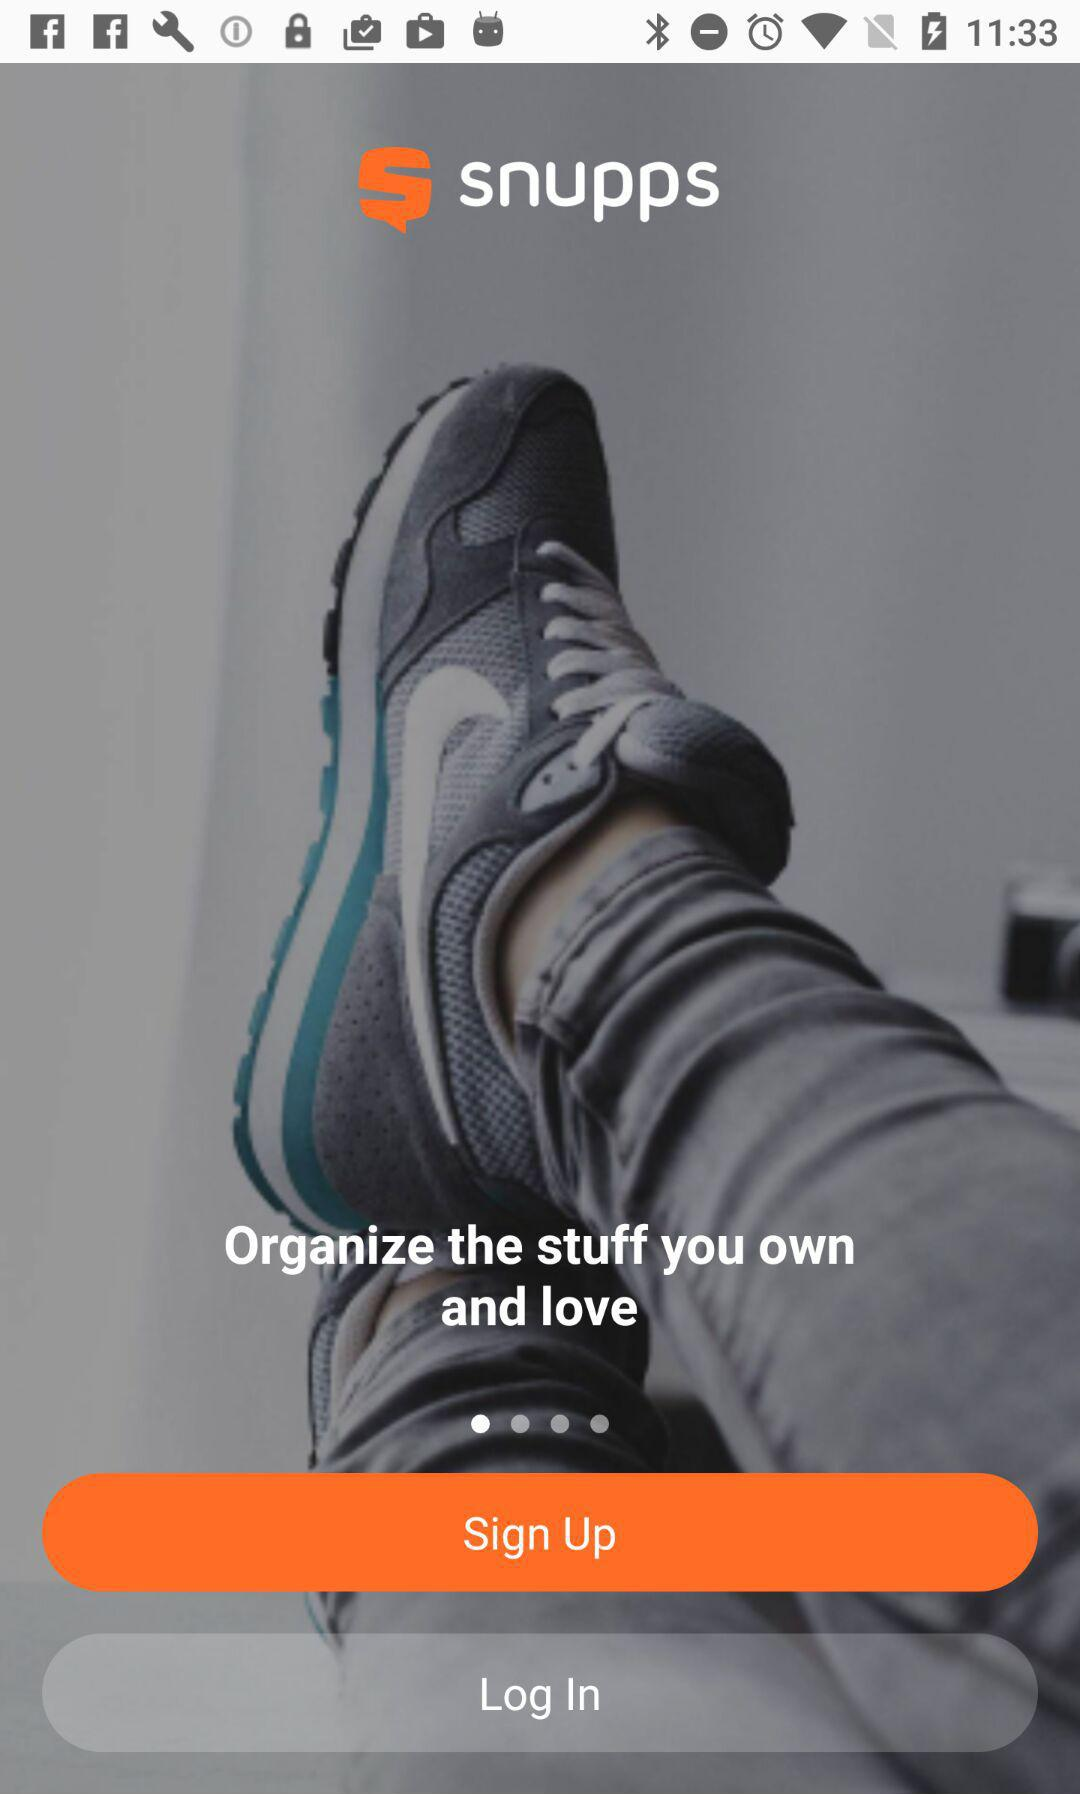BackgroundImage: (1, 64, 1080, 1794)
Image: (357, 145, 434, 235)
PageIndicator: (470, 1413, 611, 1436)
Text: (225, 1222, 856, 1329), (459, 161, 720, 224)
TextButton: (41, 1633, 1039, 1754), (42, 1472, 1039, 1594)
UpperTaskBar: (1, 1, 1080, 64)
